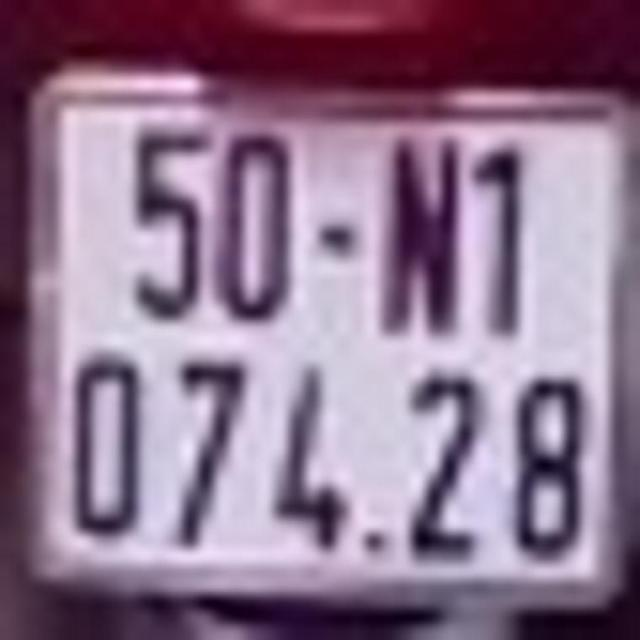0: (218, 130, 288, 320), (72, 349, 140, 536)
1: (468, 140, 523, 340)
2: (408, 369, 480, 560)
4: (275, 362, 351, 553)
5: (132, 128, 208, 321)
7: (175, 361, 244, 546)
8: (515, 375, 581, 556)
N: (385, 136, 458, 337)
